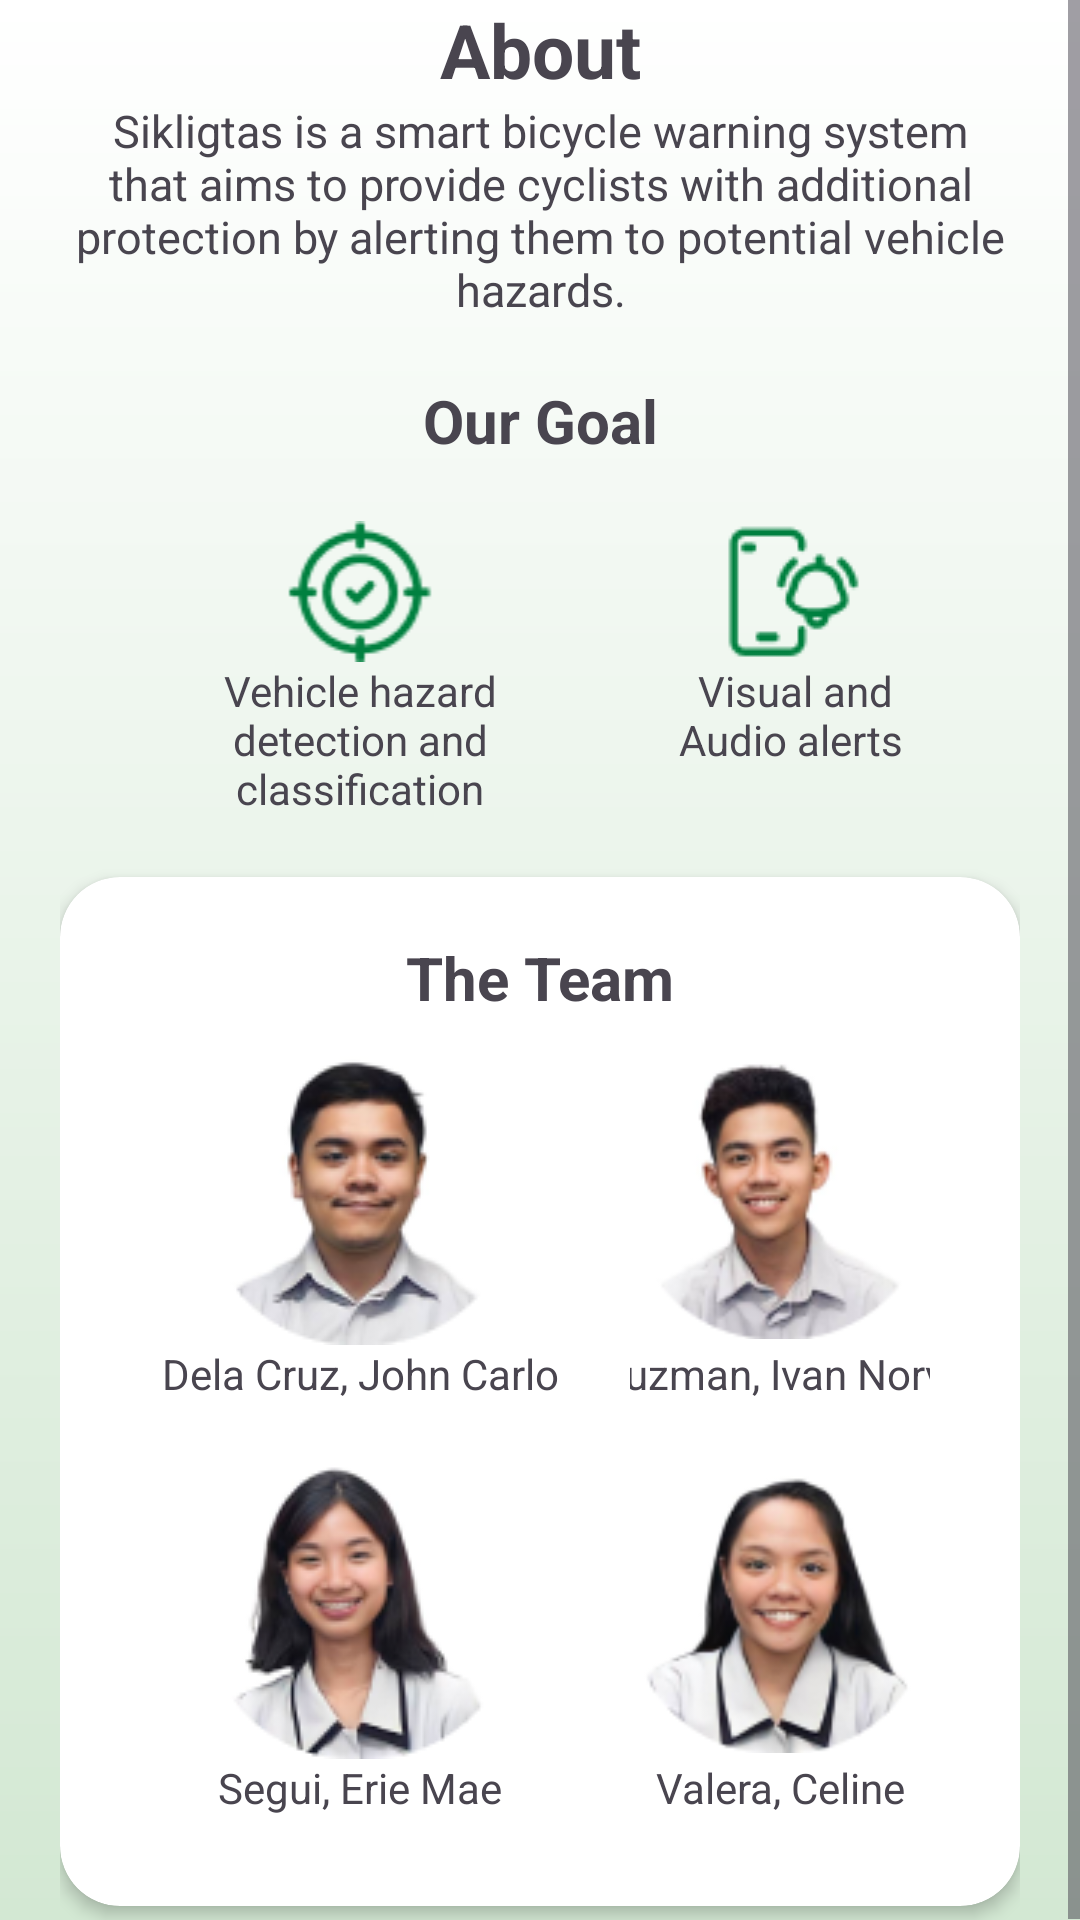

Icon click points for this 1080*1920 phone screenshot, format point (x, y):
accuracy: point (360, 591)
notification: point (793, 591)
